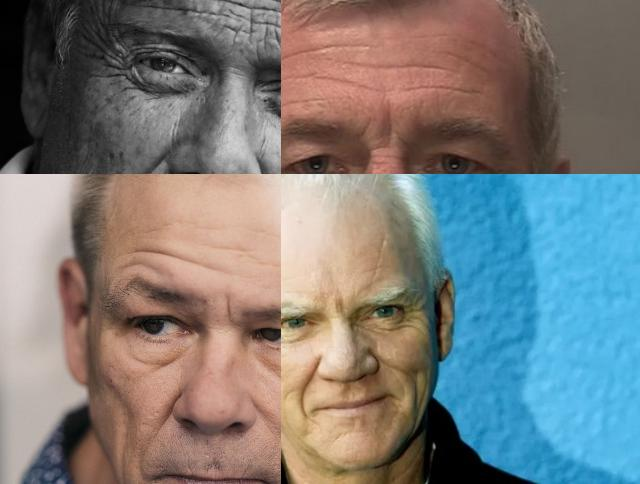crows_feet: (97, 36, 129, 74), (402, 300, 428, 330)
forehead: (128, 240, 206, 280), (416, 76, 472, 100), (228, 9, 264, 45), (153, 0, 208, 23), (291, 36, 341, 60), (390, 56, 444, 78), (321, 71, 371, 93), (348, 51, 386, 79), (281, 92, 317, 110), (370, 240, 388, 273), (252, 0, 281, 9)
frown_line: (374, 119, 406, 154)
gummy_smile: (250, 402, 281, 463), (121, 141, 168, 174), (157, 386, 183, 436), (297, 357, 321, 408)
masseter: (115, 432, 132, 484), (408, 375, 424, 425)
